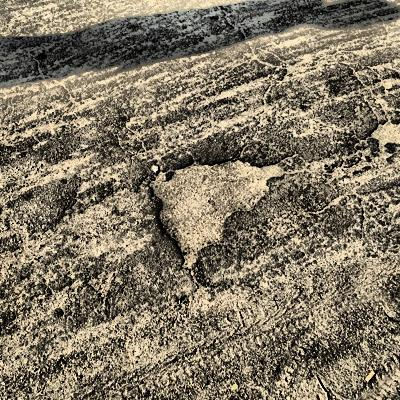pothole: (142, 156, 287, 270), (367, 119, 399, 148)
